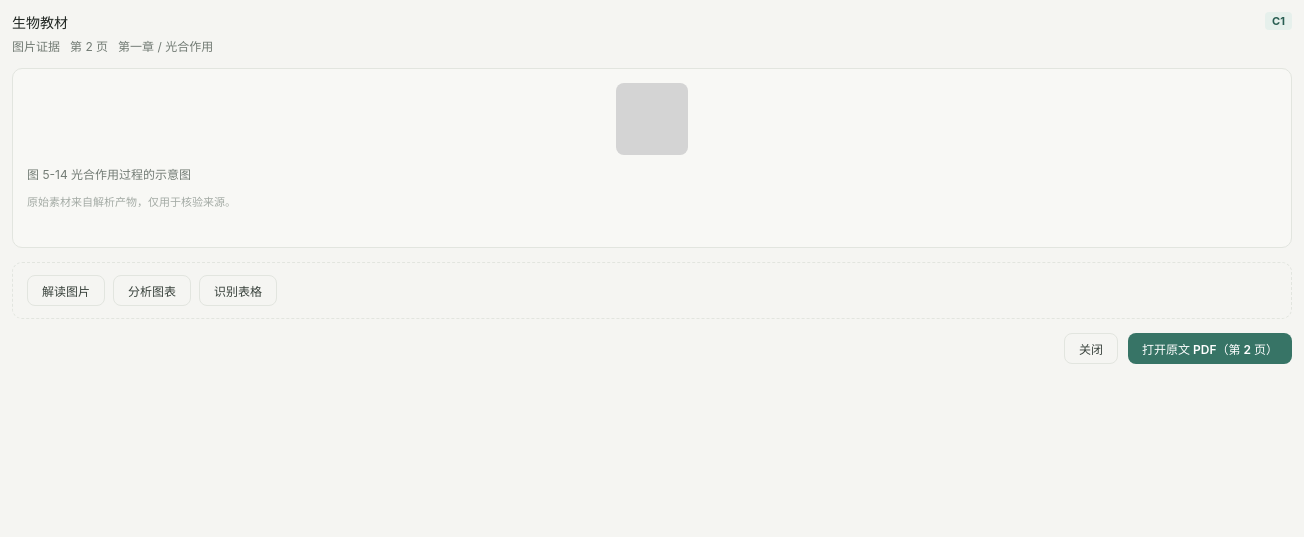
Test case: AssetPreviewDialog › shows a controlled configuration hint when the VLM is not enabled
Click the button "分析图表" at (152,290), box 113,275 -> 191,306
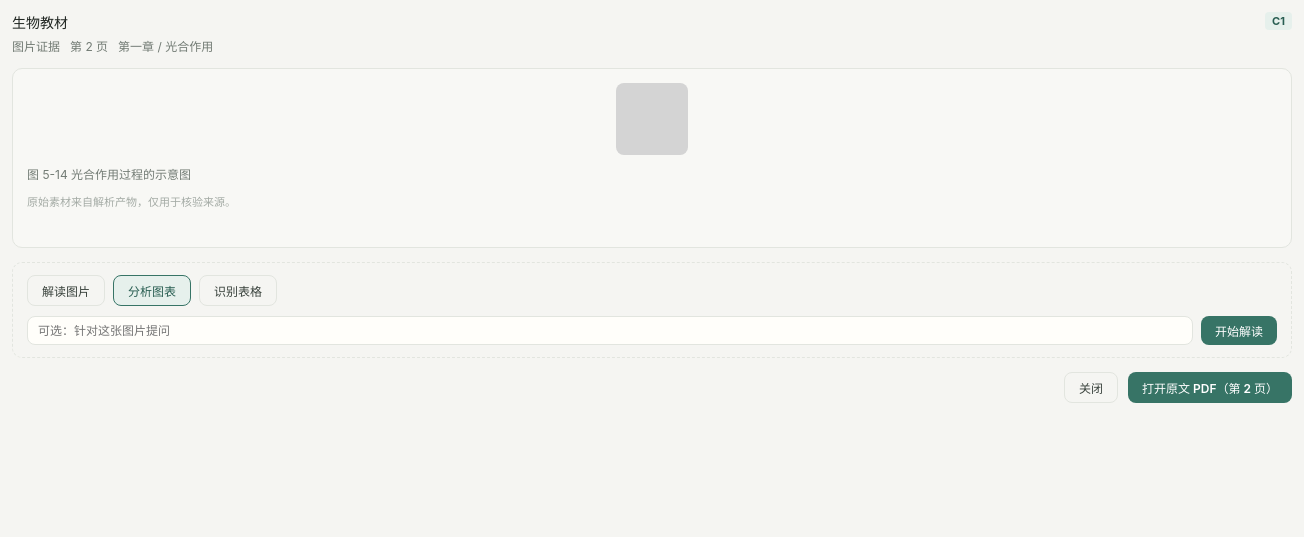
Click the button "开始解读" at (1239,330), box 1201,316 -> 1277,345
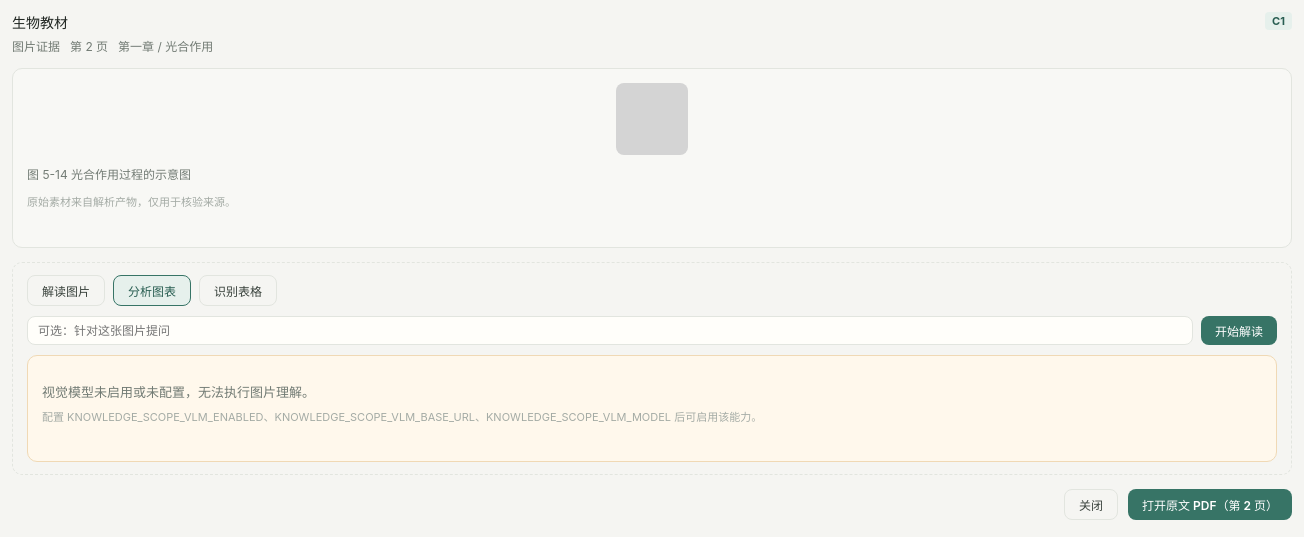
Expected: the text "视觉模型未启用或未配置" is shown, 42,384 -> 315,400
Expected: the text "KNOWLEDGE_SCOPE_VLM_BASE_URL" is shown, 42,410 -> 762,424
